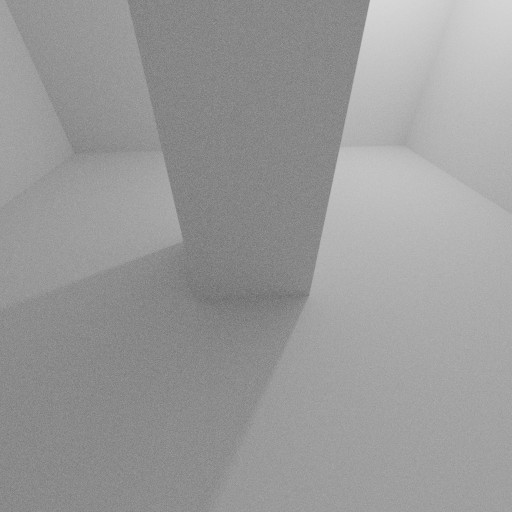cheminee: (113, 1, 382, 301)
